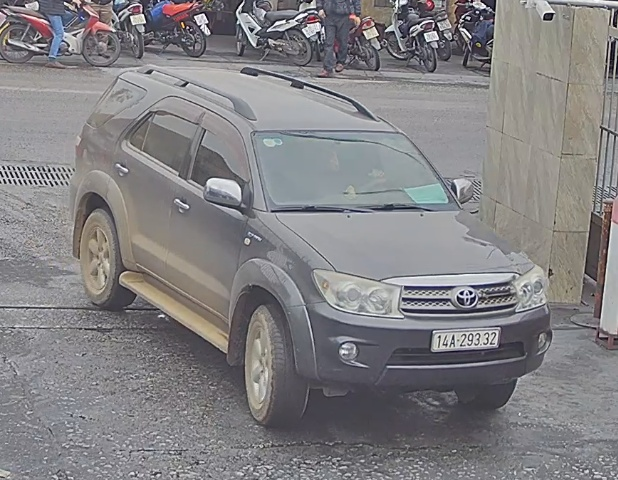vehicle plate: (427, 323, 504, 355)
